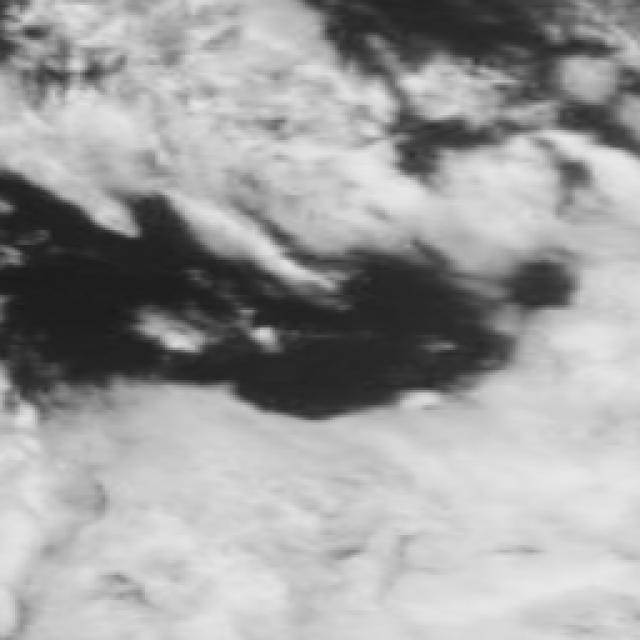CB: (163, 420, 365, 640), (355, 412, 533, 640), (5, 435, 173, 640), (525, 367, 640, 627)
